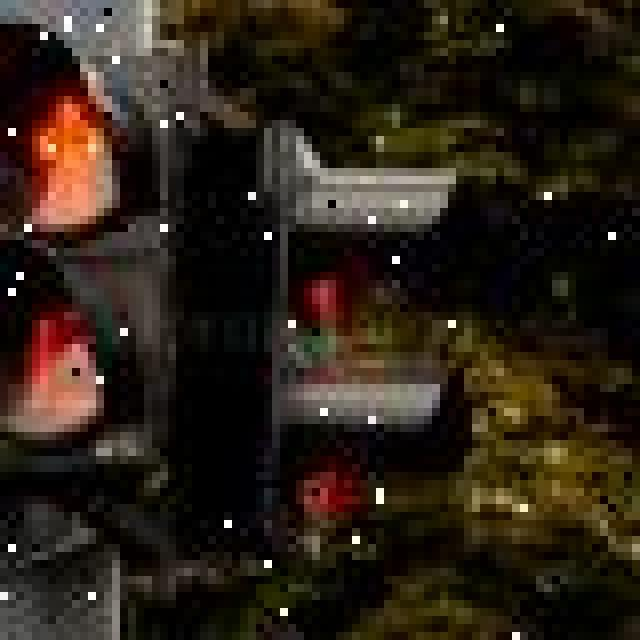redlight: (0, 36, 205, 524)
